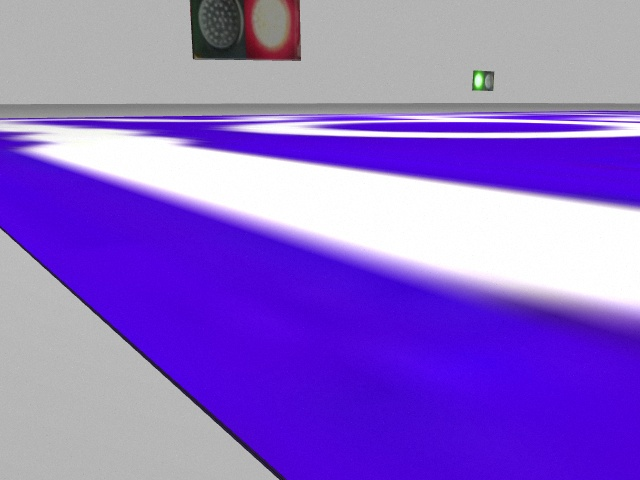red: (242, 1, 301, 60)
